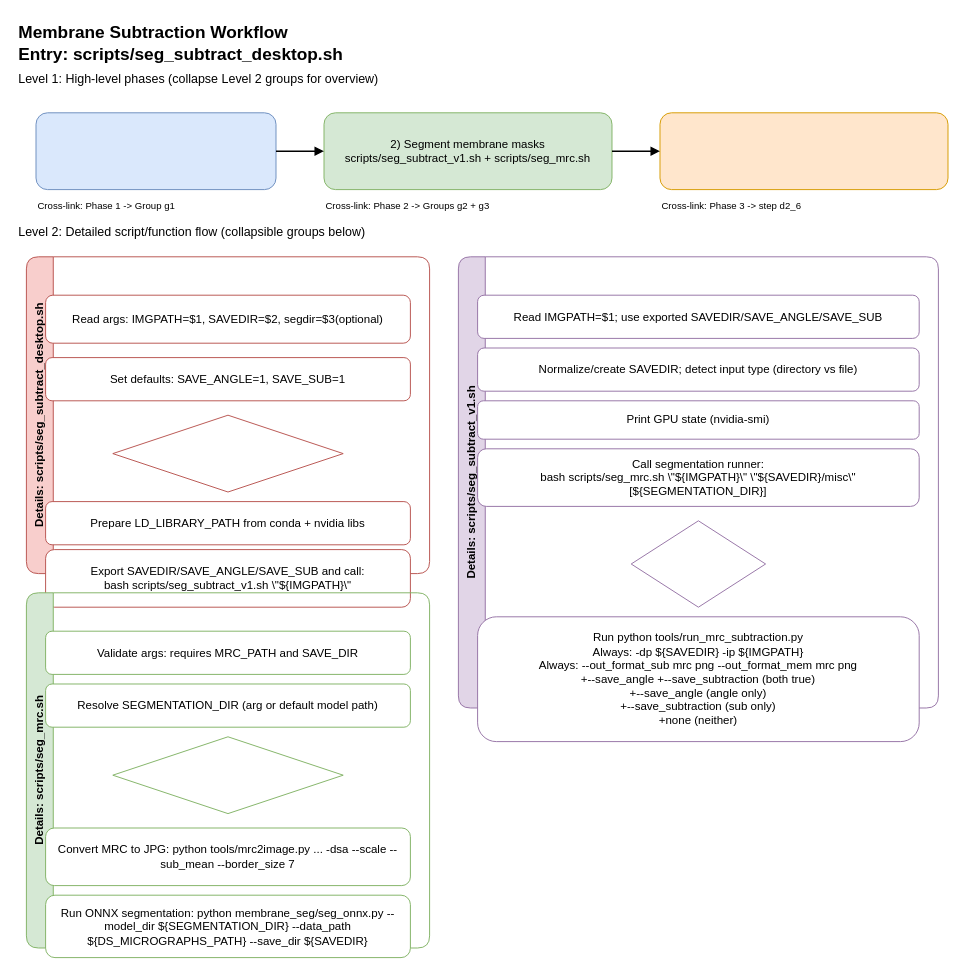
Image size: 965x974. Some labels were removed from this diagram. Here are the shapes that lost their labels. From the top down, the centre of each, then its label:
At (155,151): "1) Initialize environment scripts/seg_subtract_desktop.sh".
At (803,151): "3) Subtract membrane + export outputs tools/run_mrc_subtraction.py".
At (227,453): "If segdir provided: export SEGMENTATION_DIR (trim trailing /)".
At (698,563): "Decision by flags SAVE_ANGLE/SAVE_SUB".
At (227,775): "Determine input mode: directory or single .mrc file".
